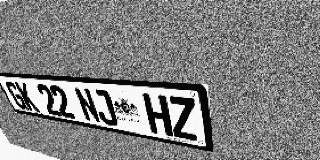2: (48, 85, 76, 119), (35, 84, 62, 116)
G: (4, 81, 29, 110)
H: (142, 93, 173, 137)
J: (90, 89, 119, 127)
K: (14, 82, 40, 112)
N: (73, 87, 102, 124)
Z: (167, 96, 199, 141)
